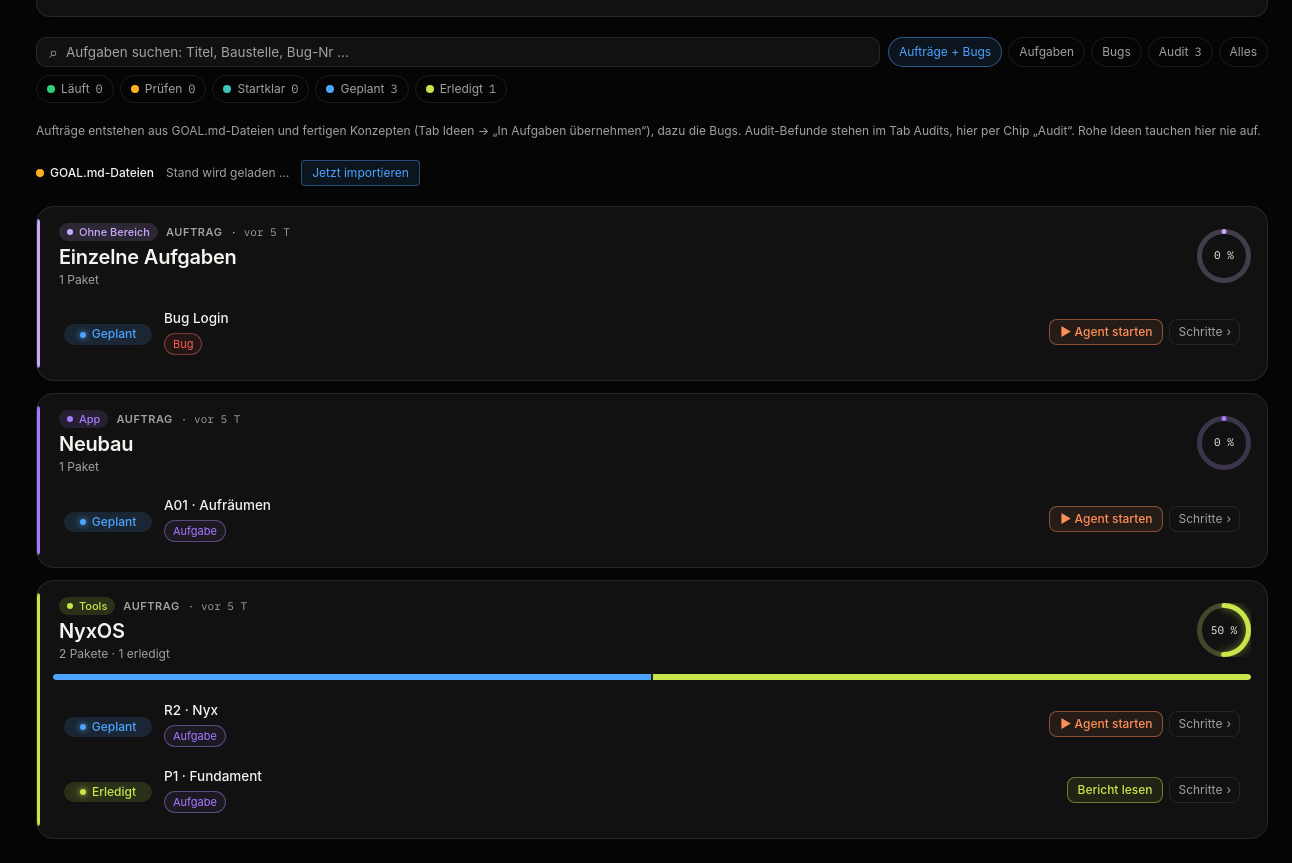
Test: erledigte Aufträge › statt „Agent starten“ steht „Bericht lesen“ und öffnet die Großansicht
(page scrolled)
Expected: the button with aria-label "Agent starten für R2 · Nyx" is shown, [1049,711,1164,737]
Click the button with aria-label "Bericht lesen: P1 · Fundament" at (1115, 790), box [1066,777,1163,803]
(page scrolled)
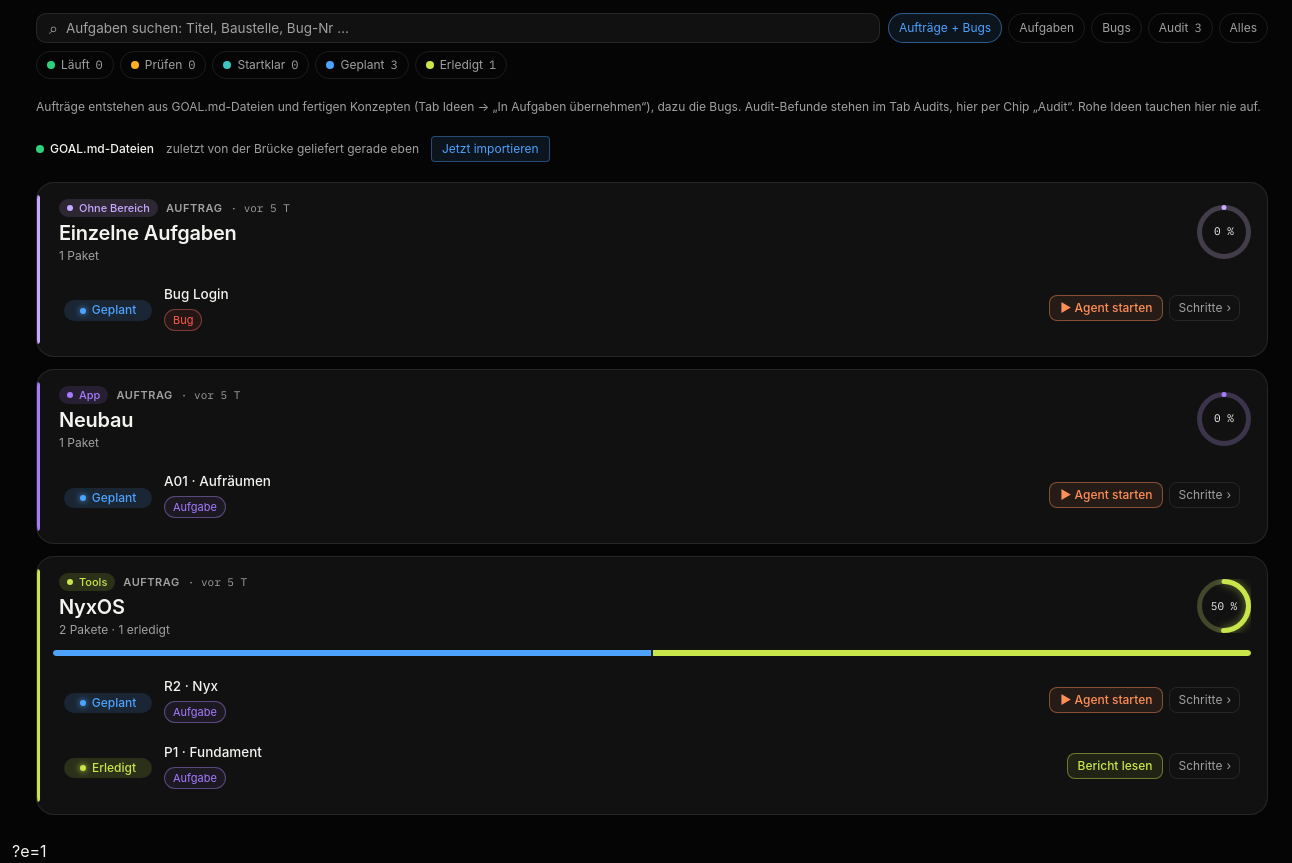
Expected: the text with test id "where" reads "?e=1", [12,840,47,860]
